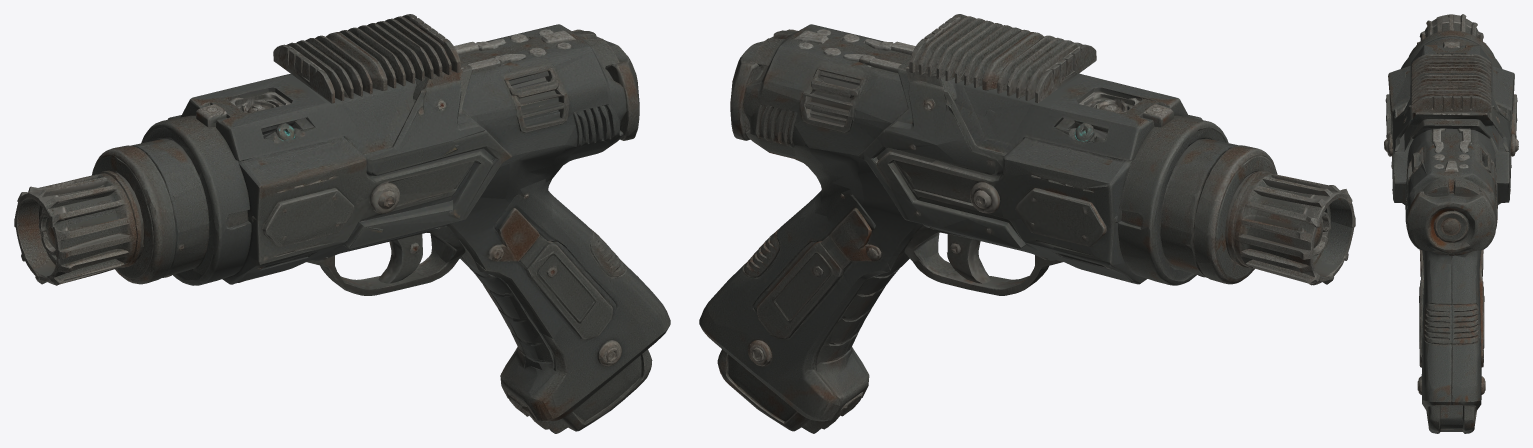
Rendered from TE_plasma_cutter.glb.
3 renders of one model, left to right at view 1: azimuth 30°, elevation 25°; view 2: azimuth 150°, elevation 25°; view 3: azimuth 270°, elevation 25°, orthographic. The views are drawn at different scales.
Size of the model in its own units: 1.9 by 1.24 by 0.5216.
Materials: 1 (1 with a texture image).
